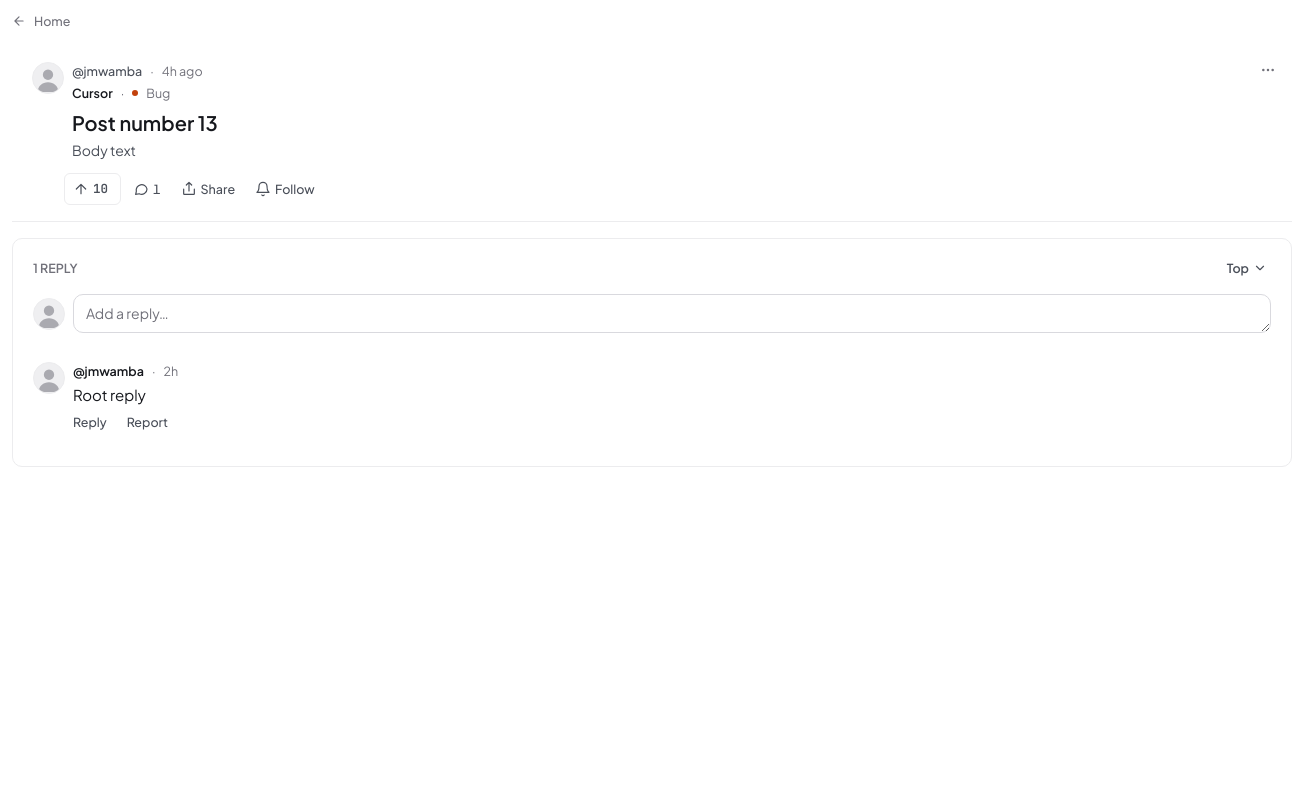
Test: replies › replies inside a thread with the parent id
The width and height of the screenshot is (1292, 812).
Click the button "Reply".
click(90, 422)  # box [65, 410, 115, 434]
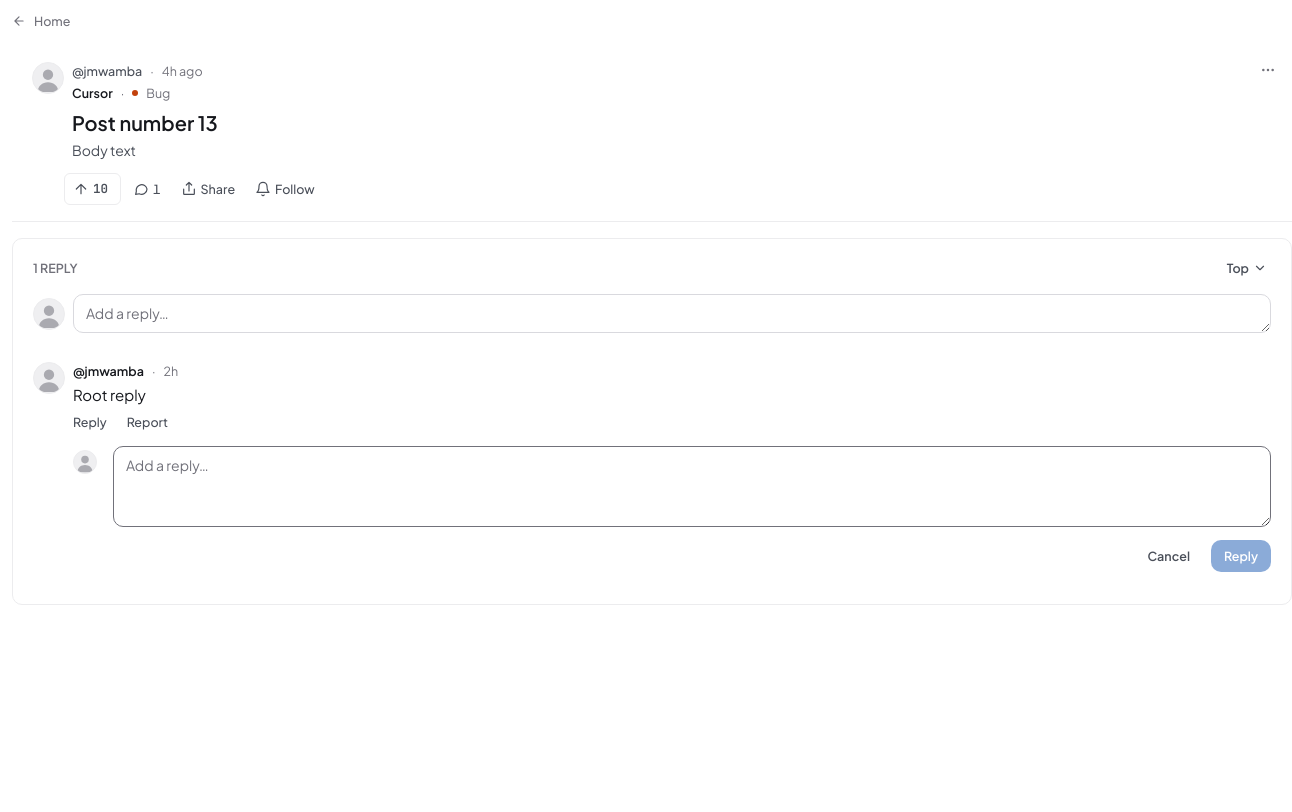
Type "Nested answer" into the text box with placeholder "Add a reply…" below "Root reply".
click(692, 487); type("Nested answer")  # box [113, 446, 1271, 527]
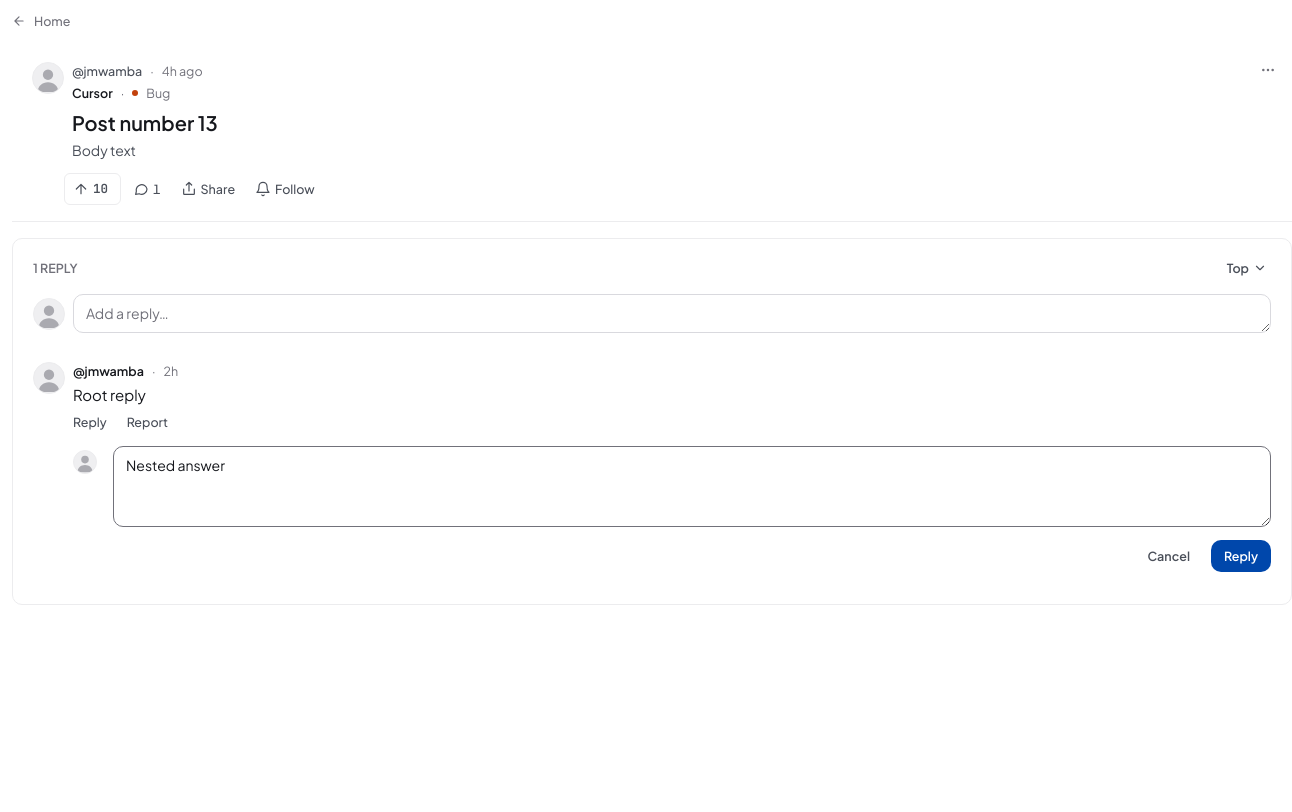
Press Enter in the 2nd text box, box [113, 446, 1271, 527]
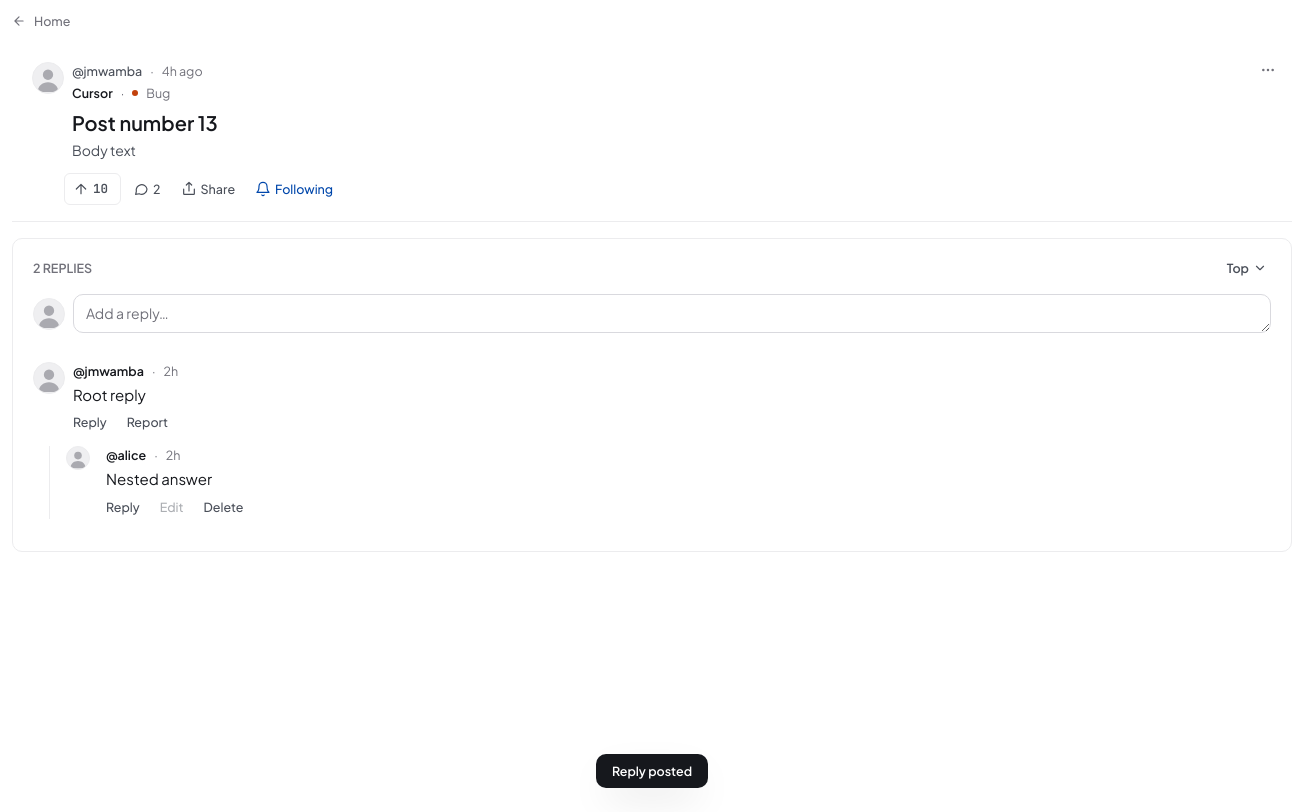
Now the text "Nested answer" is shown, box [106, 469, 212, 488]
